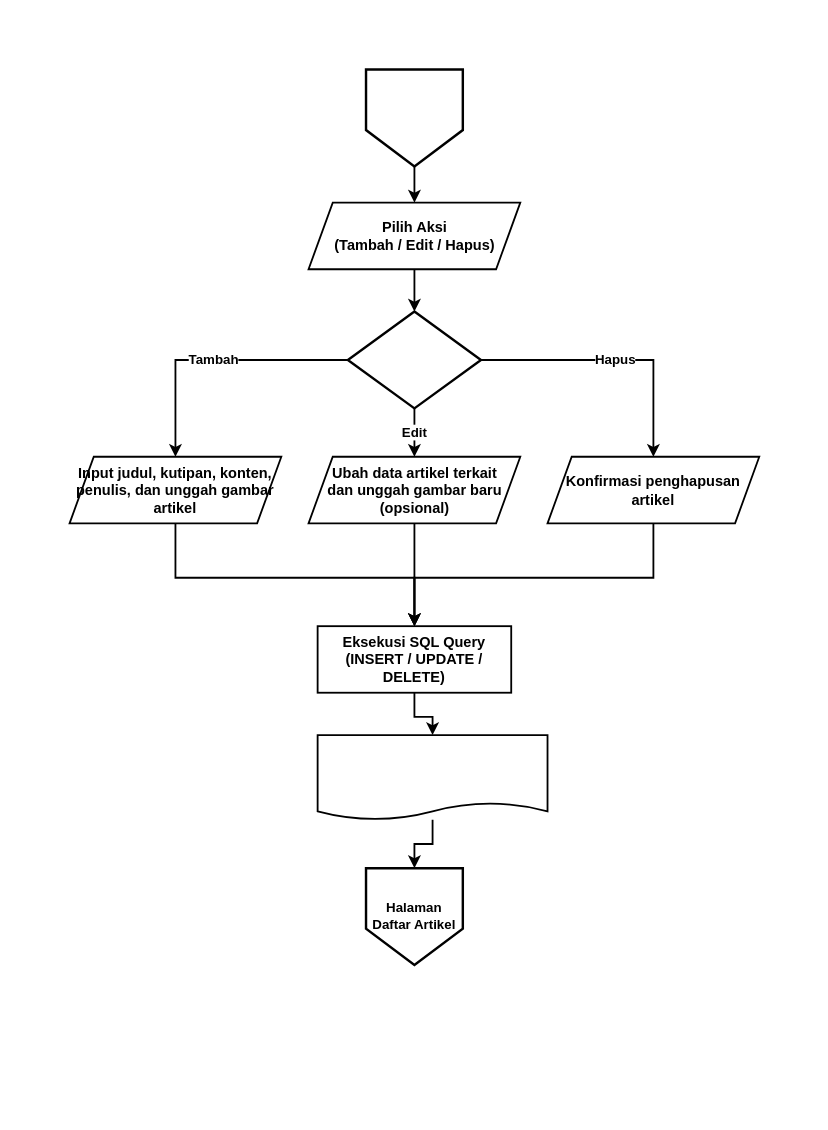
Image size: 828x1130. Some labels were removed from this diagram. The shapes that lost their labels are listed below. From the top down, each one's box as (x1, y1, x2, y2) in pixels, then its label:
(364, 68, 463, 167): Dashboard Admin
(346, 310, 482, 409): Jenis Aksi?
(316, 734, 548, 820): Tampilkan daftar artikel terupdate
